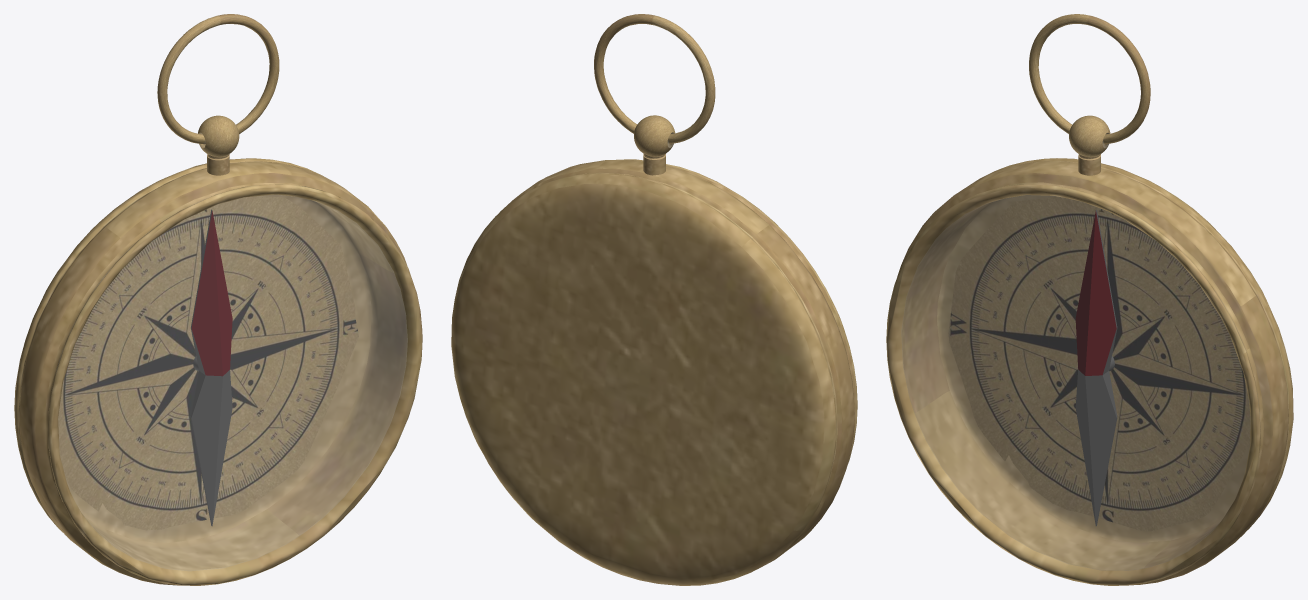
The model's file is compass.glb.
3 views of the same model, side by side, from view 1: azimuth 30°, elevation 25°; view 2: azimuth 150°, elevation 25°; view 3: azimuth 330°, elevation 25° (orthographic).
Visible parts, largest first — view 1: Glas, Rose, Kompass, Nadel, Ring, Kugel; view 2: Kompass, Ring, Kugel; view 3: Glas, Rose, Kompass, Nadel, Ring, Kugel.
Boxes of the visible parts, x1=… form: Glas: x1=58, y1=133, x2=407, y2=570; Rose: x1=58, y1=196, x2=358, y2=530; Kompass: x1=14, y1=158, x2=422, y2=585; Nadel: x1=190, y1=209, x2=232, y2=526; Ring: x1=157, y1=14, x2=279, y2=144; Kugel: x1=198, y1=115, x2=239, y2=175; Kompass: x1=451, y1=159, x2=857, y2=585; Ring: x1=594, y1=14, x2=715, y2=143; Kugel: x1=634, y1=115, x2=675, y2=175; Glas: x1=901, y1=133, x2=1250, y2=570; Rose: x1=948, y1=196, x2=1250, y2=531; Kompass: x1=886, y1=158, x2=1293, y2=585; Nadel: x1=1075, y1=209, x2=1117, y2=526; Ring: x1=1029, y1=14, x2=1150, y2=144; Kugel: x1=1069, y1=115, x2=1110, y2=175.
Bounding box in the file's own units: 0.3967 × 0.548 × 0.0688.
Materials: 5 (2 with a texture image).
